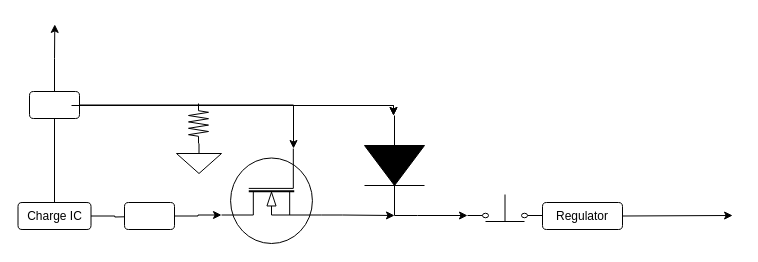
Image size: 758x262. Some labels were removed from this diagram. Here are the shapes that lost their labels. From the top down, the box of each, then its label:
(28, 90, 80, 118): USB
(124, 202, 174, 230): Battery
